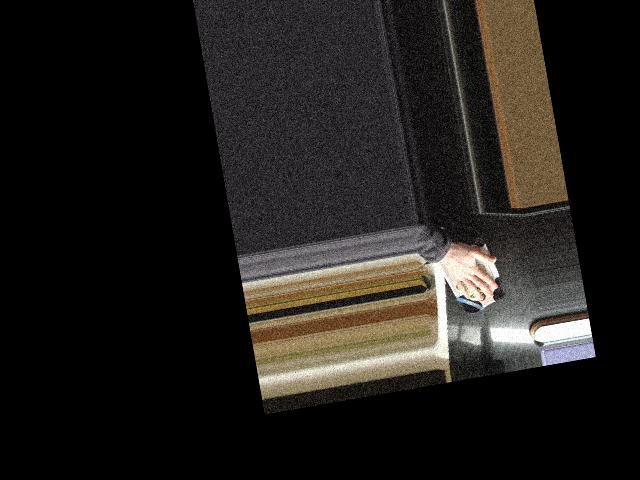cheese: (431, 233, 510, 319)
